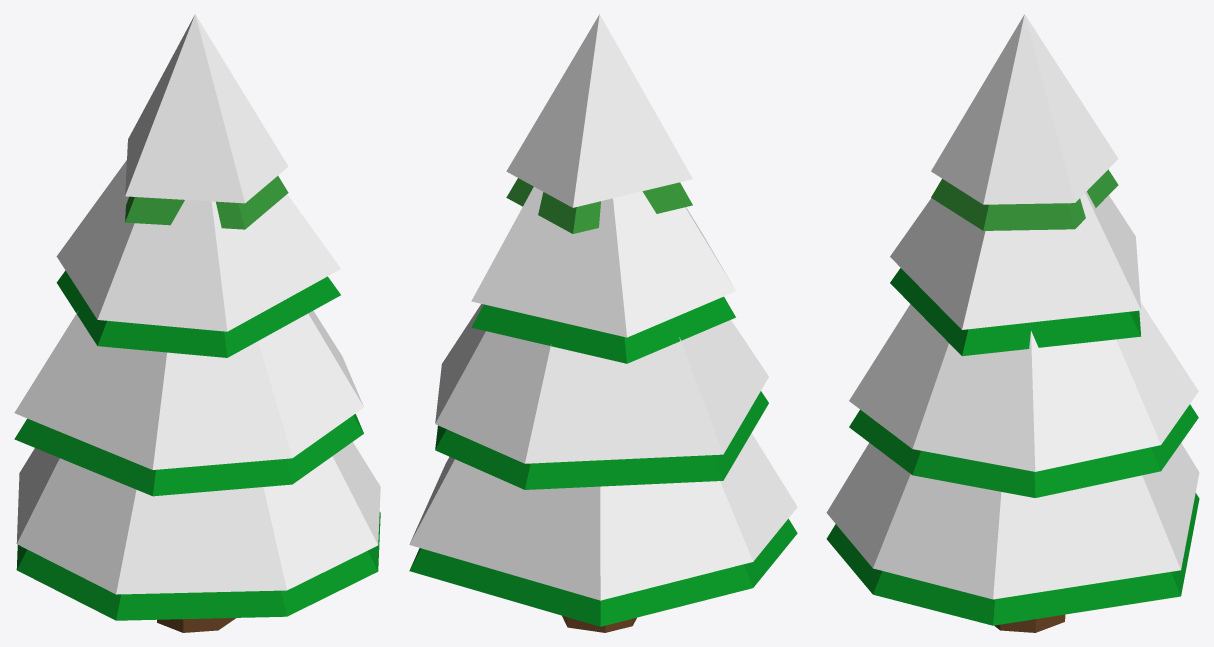
Rendered from talvi_kuusi3.fbx.
3 renders of one model, left to right at view 1: azimuth 30°, elevation 25°; view 2: azimuth 150°, elevation 25°; view 3: azimuth 270°, elevation 25°, orthographic.
Parts seen in each view (by area): view 1: Cone, Cone.001, Cylinder; view 2: Cone, Cone.001, Cylinder; view 3: Cone, Cone.001, Cylinder.
Boxes of the visible parts, bbox=[...] form: Cone: bbox=[14, 14, 380, 594]; Cone.001: bbox=[14, 176, 380, 620]; Cylinder: bbox=[157, 618, 235, 632]; Cone: bbox=[409, 14, 797, 600]; Cone.001: bbox=[409, 178, 797, 626]; Cylinder: bbox=[562, 615, 636, 632]; Cone: bbox=[826, 14, 1199, 599]; Cone.001: bbox=[826, 169, 1199, 625]; Cylinder: bbox=[994, 614, 1065, 632].
Size of the model in its own units: 287 by 492 by 276.
